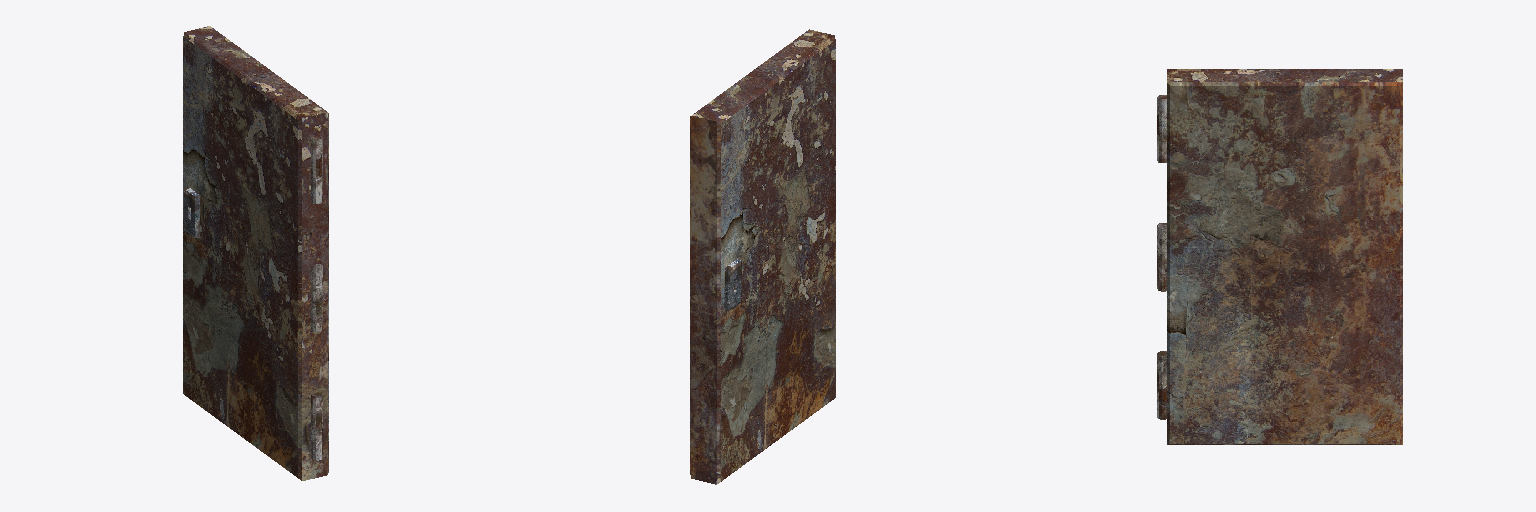
The picture shows the model from 3 angles: view 1: azimuth 30°, elevation 25°; view 2: azimuth 150°, elevation 25°; view 3: azimuth 270°, elevation 25°; orthographic projection.
Visible parts, largest first — view 1: Door; view 2: Door; view 3: Door.
Boxes of the visible parts, box(x1,y1,x2,y2) form: Door: box(183, 26, 328, 480); Door: box(690, 29, 835, 484); Door: box(1157, 69, 1402, 444).
Bounding box in the file's own units: 0.175 × 1.7 × 1.04.
2 materials, 2 textured.